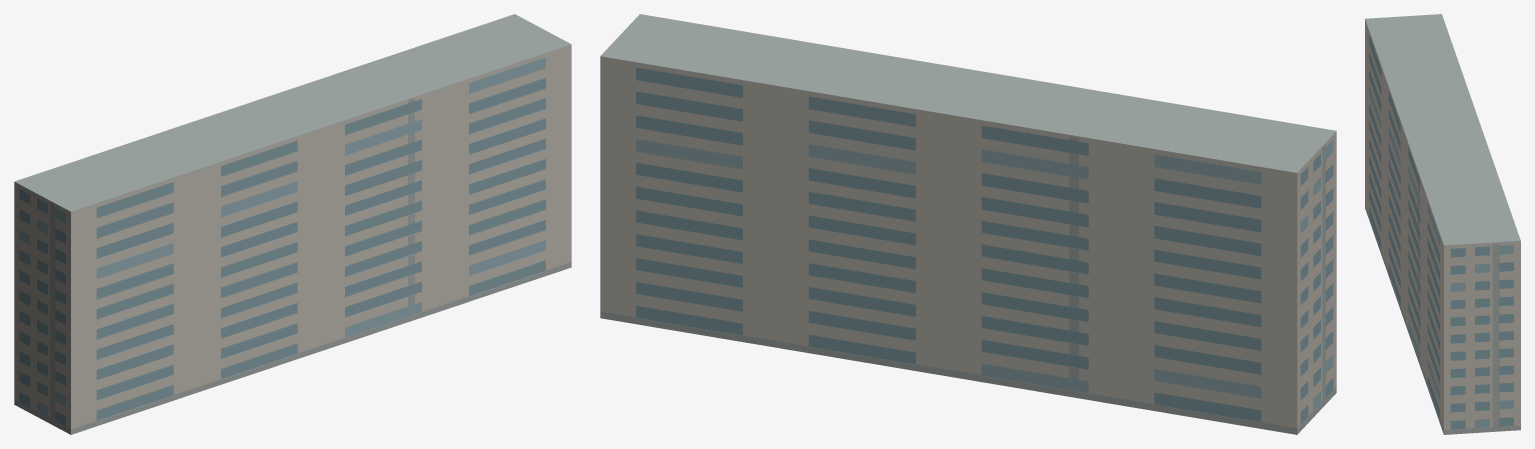
The model's file is residential-bb019154-4d3e-4ed3-9a7e-9939bd254ce2.glb.
3 renders of one model, left to right at view 1: azimuth 30°, elevation 25°; view 2: azimuth 150°, elevation 25°; view 3: azimuth 270°, elevation 25°, orthographic. The views are drawn at different scales.
Visible parts, largest first — view 1: residential-bb019154-4d3e-4ed3-9a7e-9939bd254ce2.tmp; view 2: residential-bb019154-4d3e-4ed3-9a7e-9939bd254ce2.tmp; view 3: residential-bb019154-4d3e-4ed3-9a7e-9939bd254ce2.tmp.
Boxes of the visible parts, x1,y1,x2,y2 form: residential-bb019154-4d3e-4ed3-9a7e-9939bd254ce2.tmp: [14, 14, 571, 434]; residential-bb019154-4d3e-4ed3-9a7e-9939bd254ce2.tmp: [600, 14, 1336, 434]; residential-bb019154-4d3e-4ed3-9a7e-9939bd254ce2.tmp: [1365, 14, 1520, 434].
Bounding box in the file's own units: 86.47 × 33 × 24.6.
